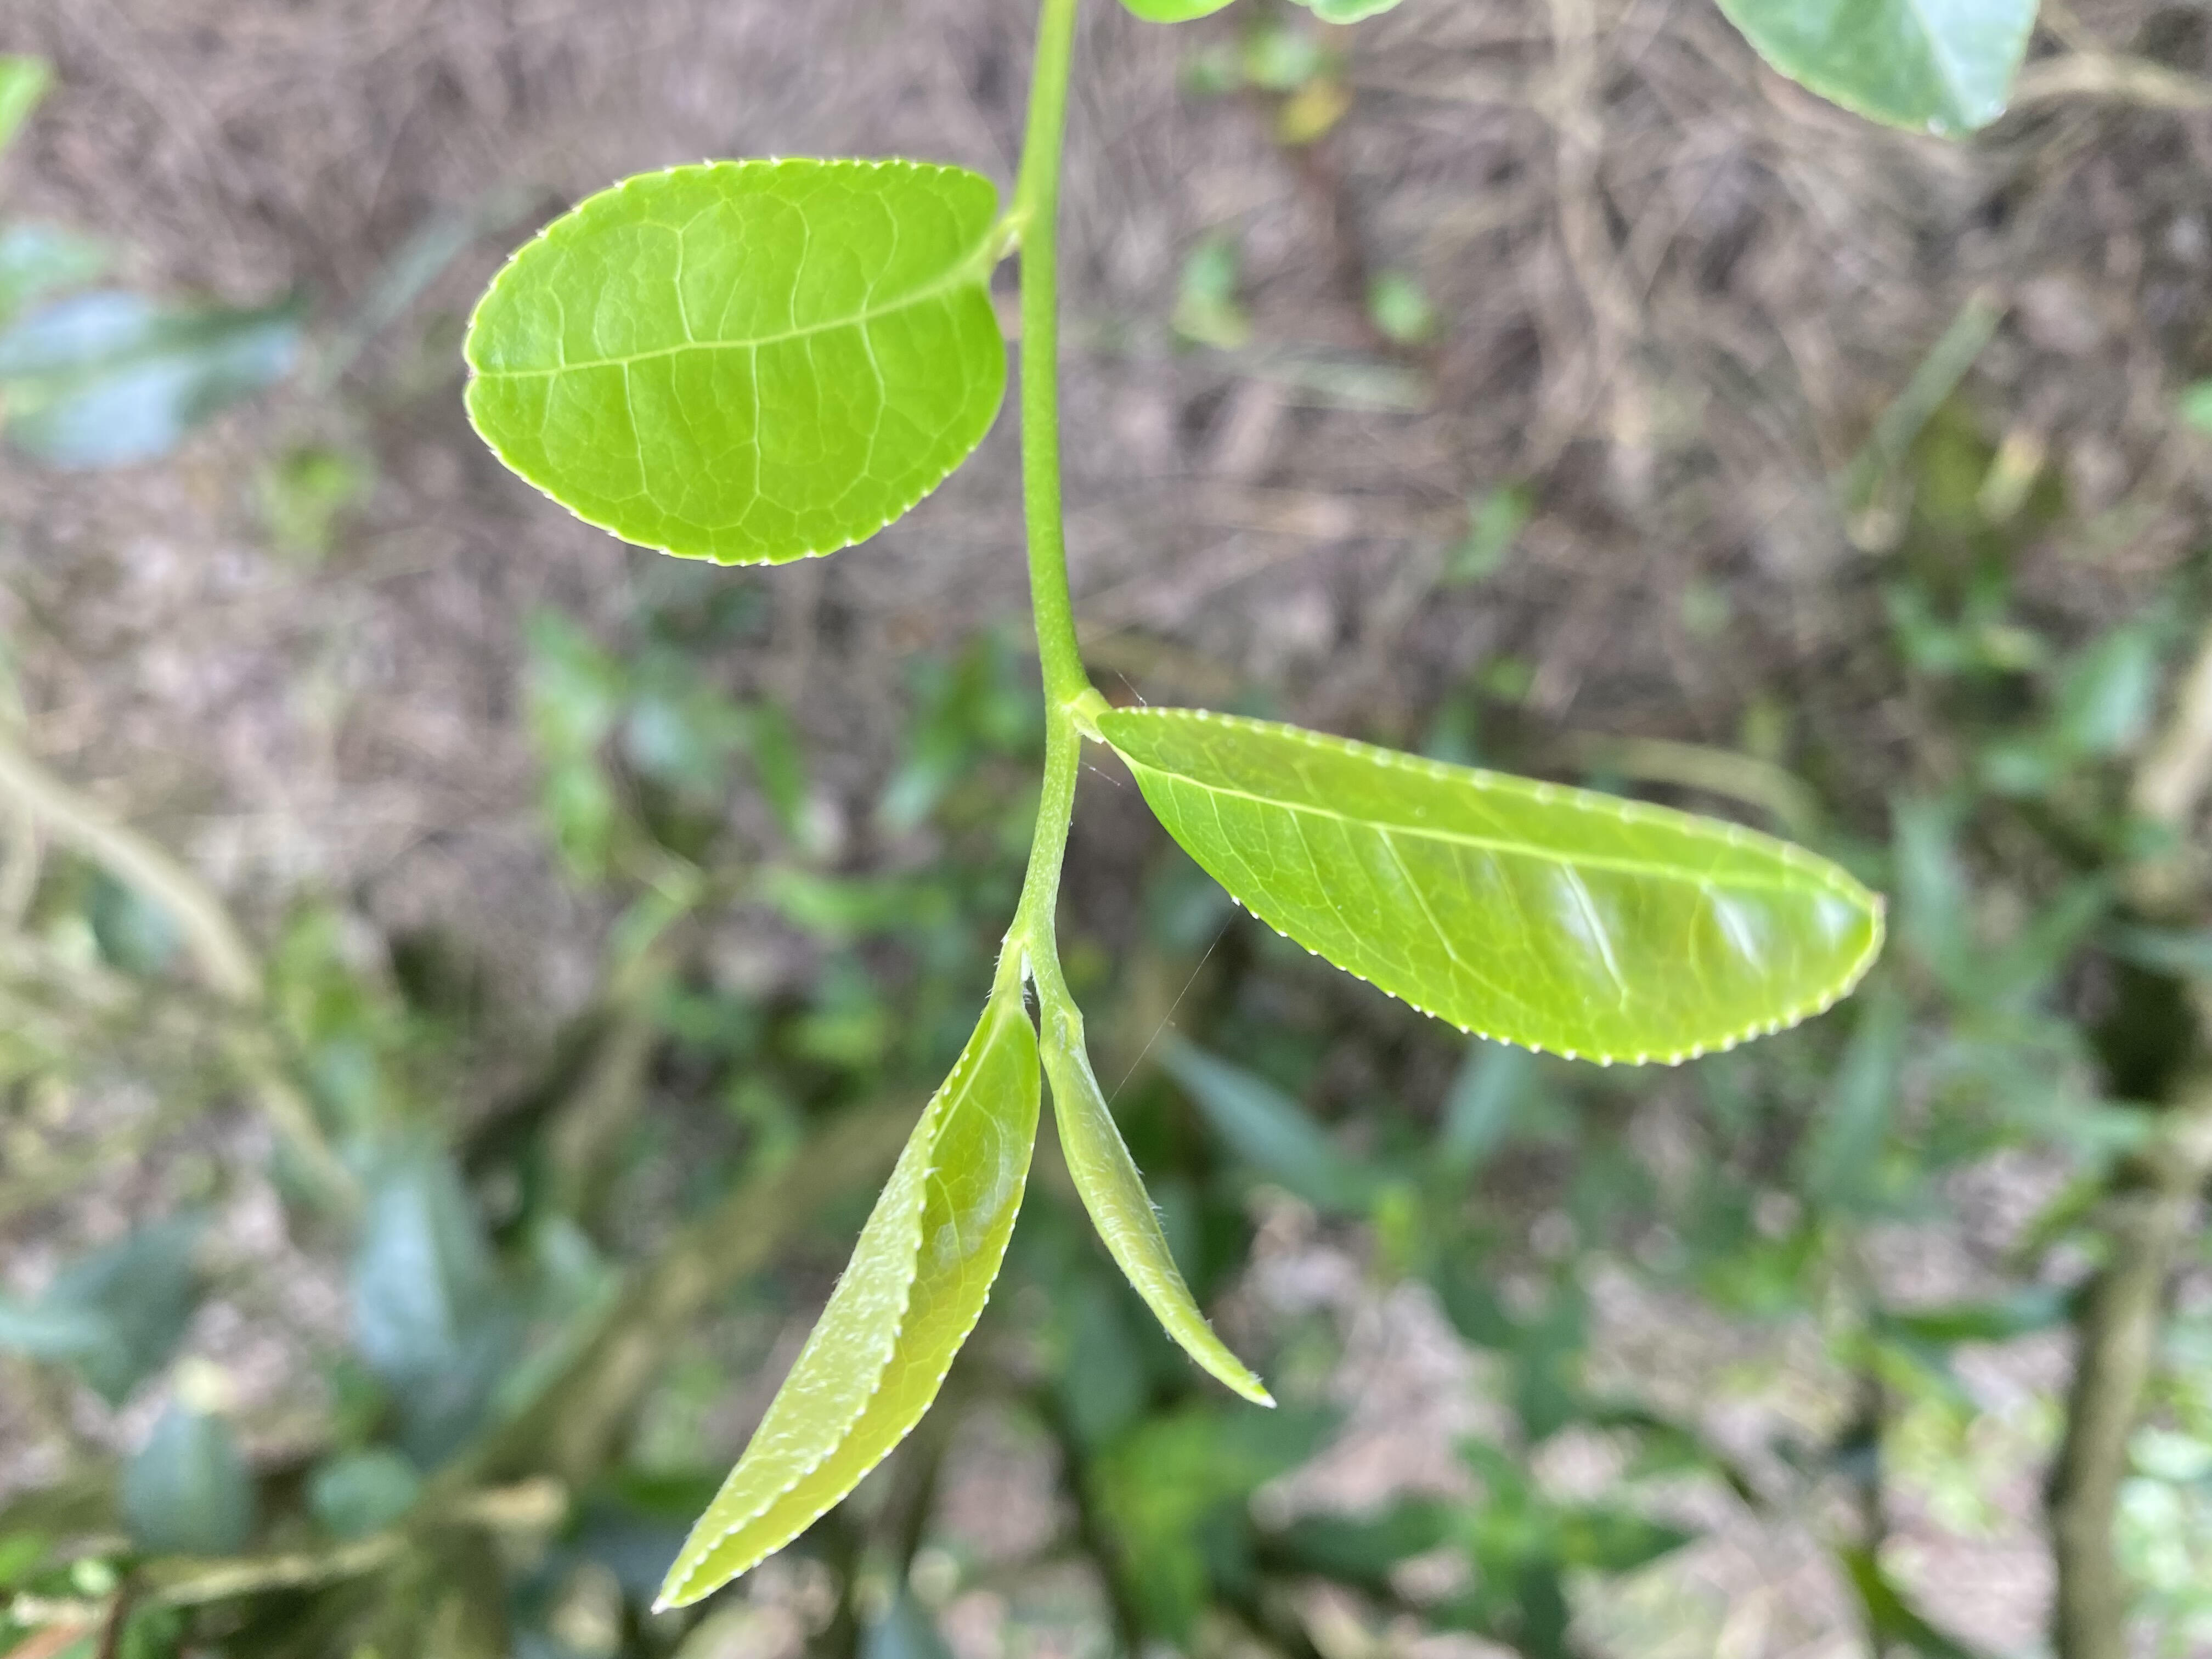healthy: (1096, 704, 1888, 1072), (653, 995, 1042, 1615), (456, 150, 1007, 572)
